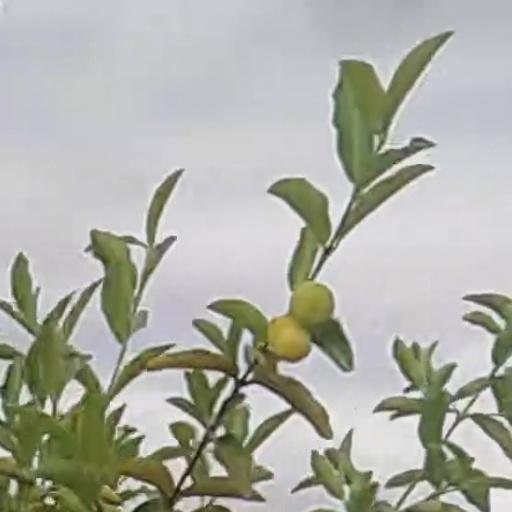acerola_verde: (268, 322, 309, 358), (293, 284, 332, 320)
